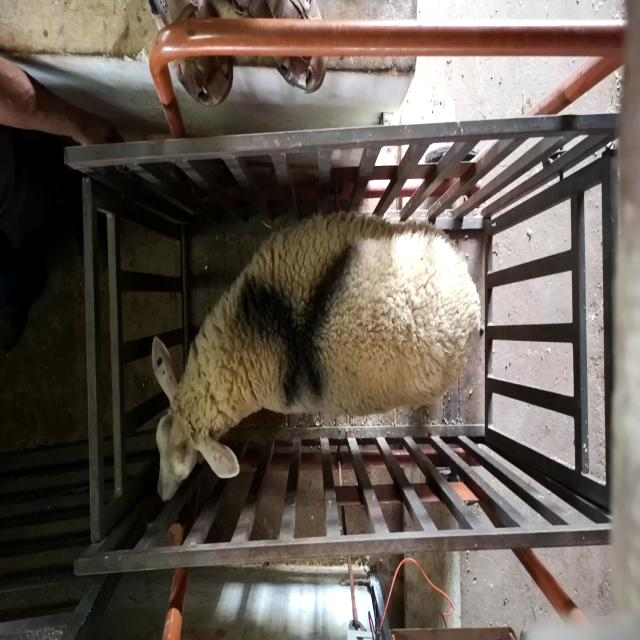sheep: (152, 212, 482, 503)
